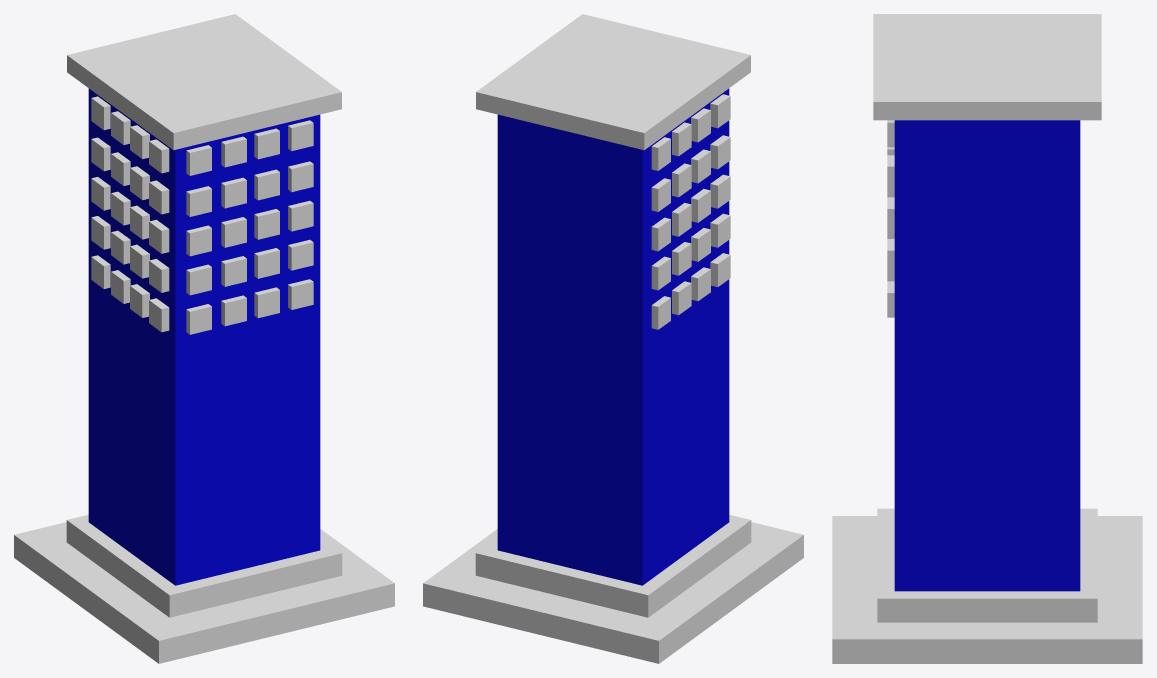
Rendered from дом 6.fbx.
The picture shows the model from 3 angles, left to right: view 1: azimuth 30°, elevation 25°; view 2: azimuth 150°, elevation 25°; view 3: azimuth 270°, elevation 25°; orthographic projection. The views are drawn at different scales.
Visible parts, largest first — view 1: Cube, Cube.043, Cube.042, Cube.041, Cube.002, Cube.005, Cube.009, Cube.015, Cube.019, Cube.020, Cube.001, Cube.003 (+22 smaller); view 2: Cube, Cube.043, Cube.042, Cube.041, Cube.025, Cube.029, Cube.037, Cube.021, Cube.033, Cube.022, Cube.034, Cube.038 (+12 smaller); view 3: Cube, Cube.043, Cube.042, Cube.041.
Boxes of the visible parts, x1=… form: Cube: x1=88, y1=88, x2=320, y2=585; Cube.043: x1=67, y1=14, x2=341, y2=150; Cube.042: x1=14, y1=522, x2=394, y2=663; Cube.041: x1=66, y1=514, x2=342, y2=617; Cube.002: x1=254, y1=287, x2=279, y2=318; Cube.005: x1=288, y1=239, x2=313, y2=270; Cube.009: x1=288, y1=200, x2=313, y2=231; Cube.015: x1=221, y1=177, x2=246, y2=208; Cube.019: x1=221, y1=136, x2=246, y2=167; Cube.020: x1=186, y1=145, x2=211, y2=175; Cube.001: x1=288, y1=279, x2=313, y2=309; Cube.003: x1=221, y1=295, x2=246, y2=326; Cube: x1=497, y1=88, x2=729, y2=585; Cube.043: x1=476, y1=14, x2=750, y2=150; Cube.042: x1=423, y1=522, x2=803, y2=663; Cube.041: x1=475, y1=514, x2=751, y2=617; Cube.025: x1=710, y1=213, x2=730, y2=247; Cube.029: x1=710, y1=174, x2=730, y2=208; Cube.037: x1=710, y1=94, x2=730, y2=128; Cube.021: x1=710, y1=253, x2=730, y2=287; Cube.033: x1=710, y1=135, x2=730, y2=169; Cube.022: x1=691, y1=267, x2=710, y2=301; Cube.034: x1=691, y1=149, x2=710, y2=183; Cube.038: x1=691, y1=108, x2=710, y2=142; Cube: x1=894, y1=120, x2=1080, y2=591; Cube.043: x1=873, y1=14, x2=1101, y2=120; Cube.042: x1=832, y1=516, x2=1142, y2=663; Cube.041: x1=877, y1=508, x2=1097, y2=622.
Size of the model in its own units: 2142 by 4411 by 2279.
